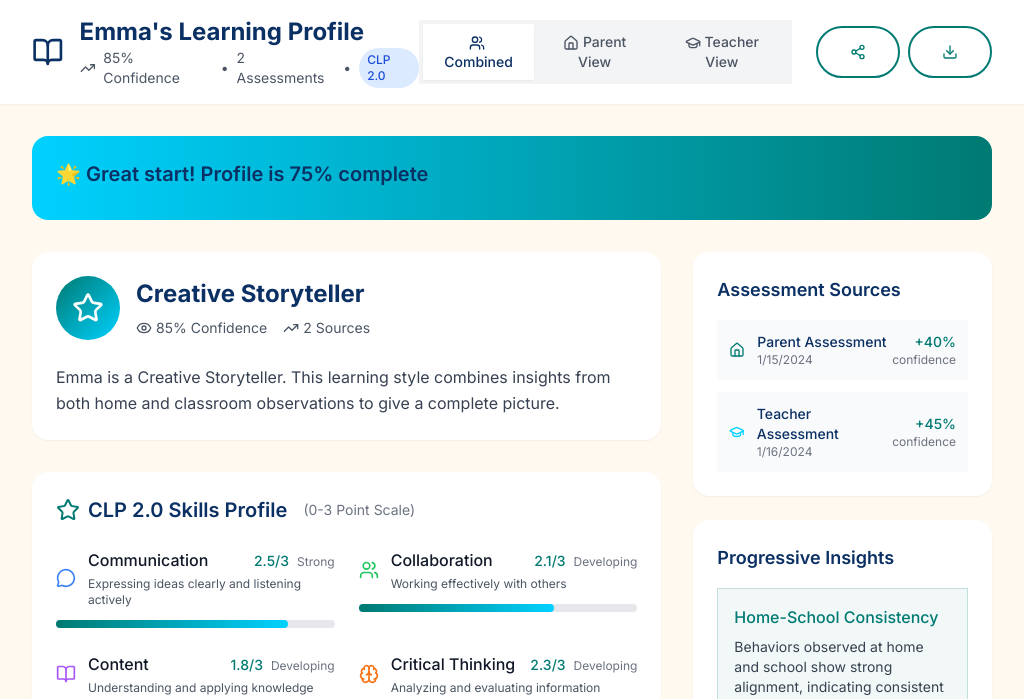
Scenario: ContextualResultsPage › Personality Overview Context Awareness › should show context-aware personality descriptions
The image size is (1024, 699).
# Parent view description
Click the button "Parent View" at (595, 52), box [534,24,656,80]
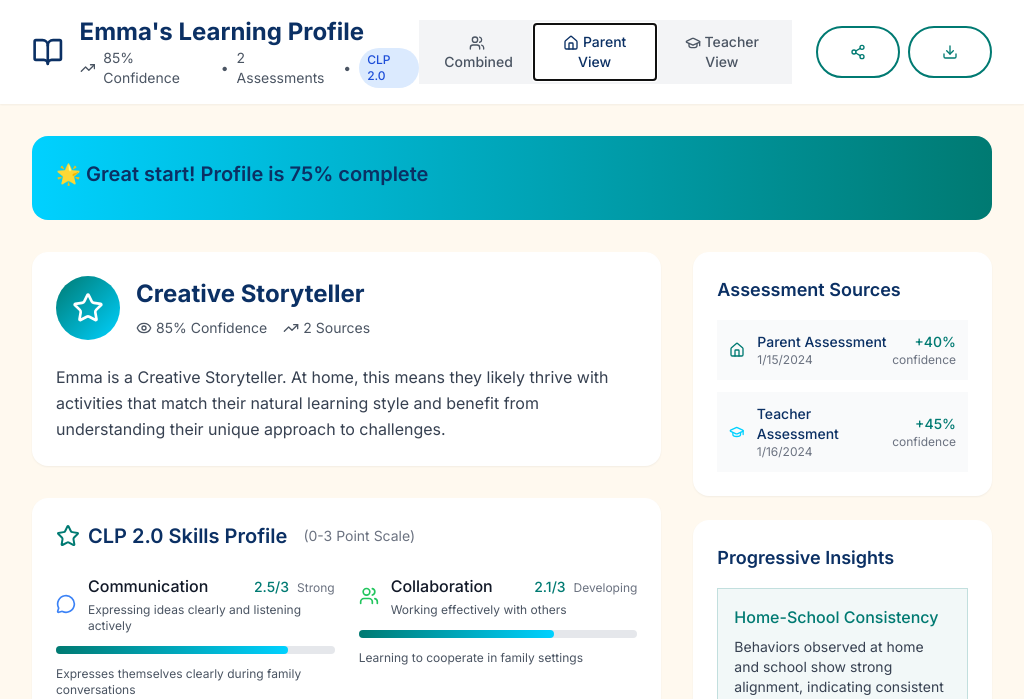
Result: the text "at home, this means they likely thrive with activities" is shown at [56,367,608,439]
# Teacher view description
Click the button "Teacher View" at (722, 52), box [656,24,788,80]
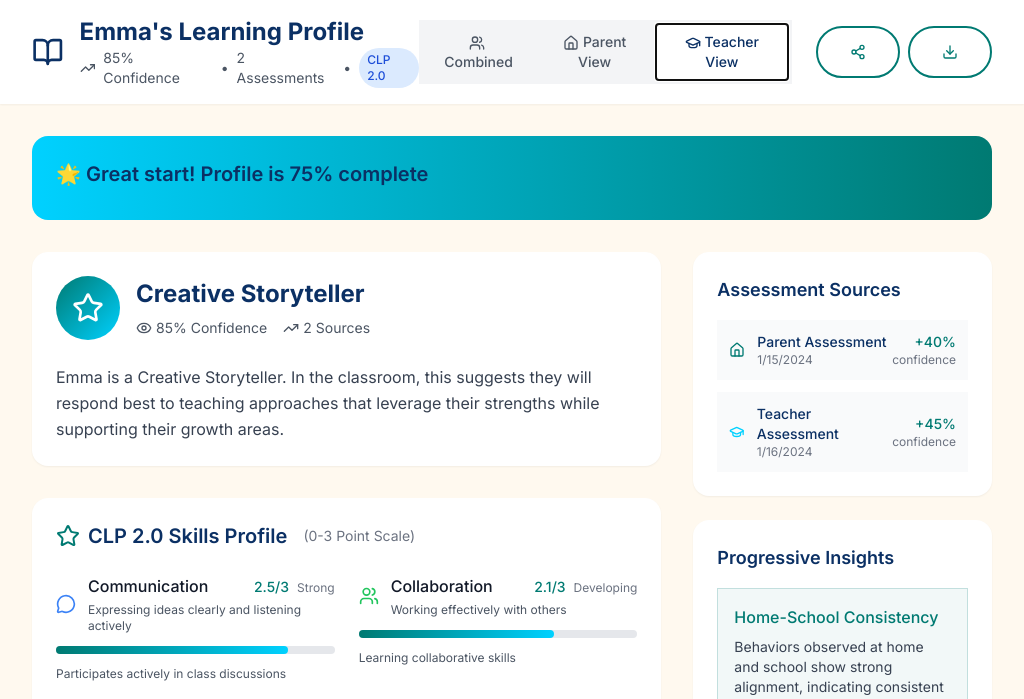
Result: the text "in the classroom, this suggests they will respond best" is shown at [56,367,600,439]
# Combined view description
Click the button "Combined" at (478, 52), box [423,24,534,80]
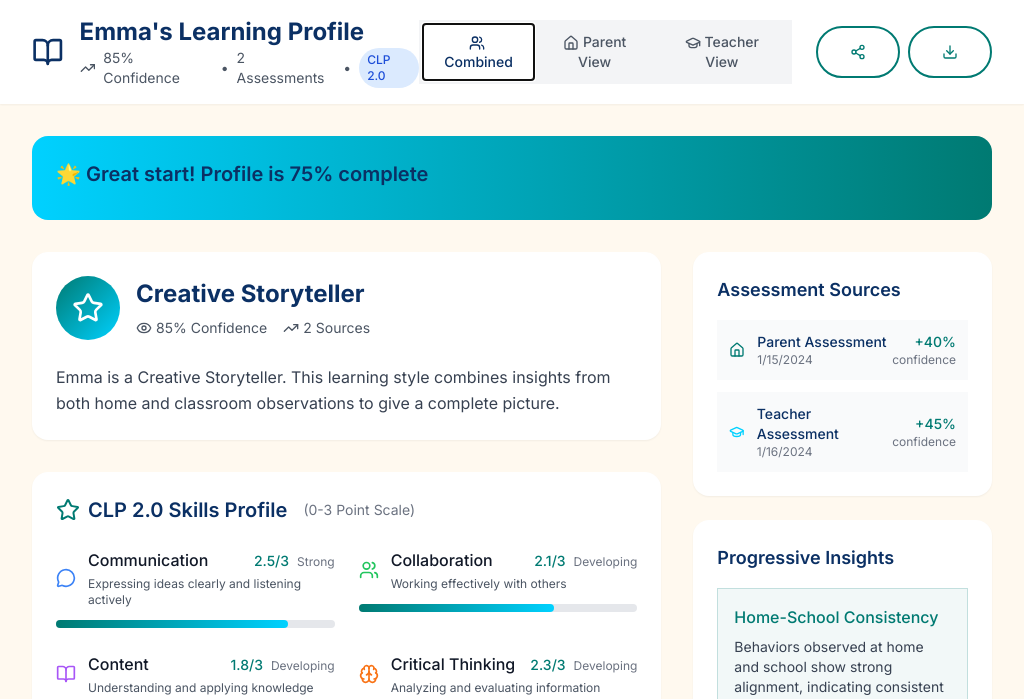
Result: the text "this learning style combines insights from both home and classroom" is shown at [56,367,610,413]
